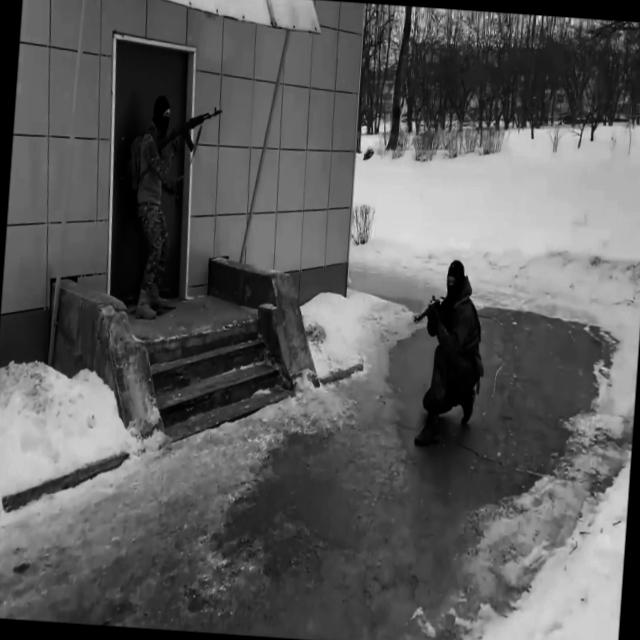gun: (153, 99, 224, 161), (412, 291, 448, 329)
person with a gun: (119, 90, 226, 323), (403, 256, 490, 450)
